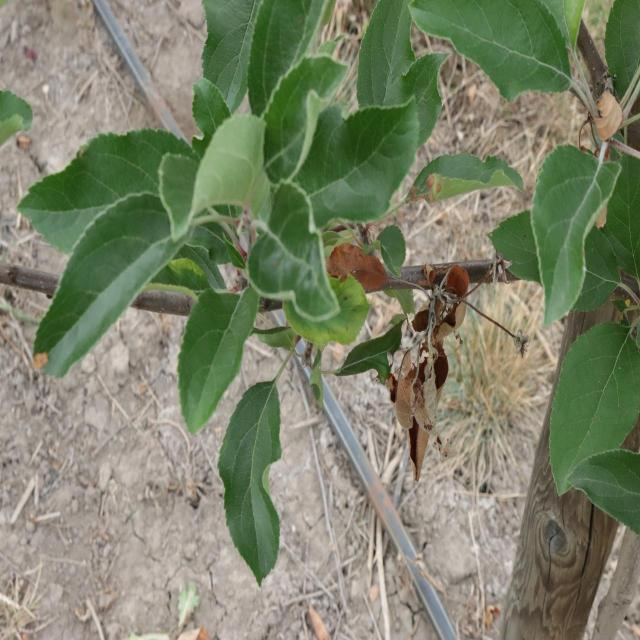-FireBlight-: (388, 252, 481, 468), (327, 231, 390, 297)
